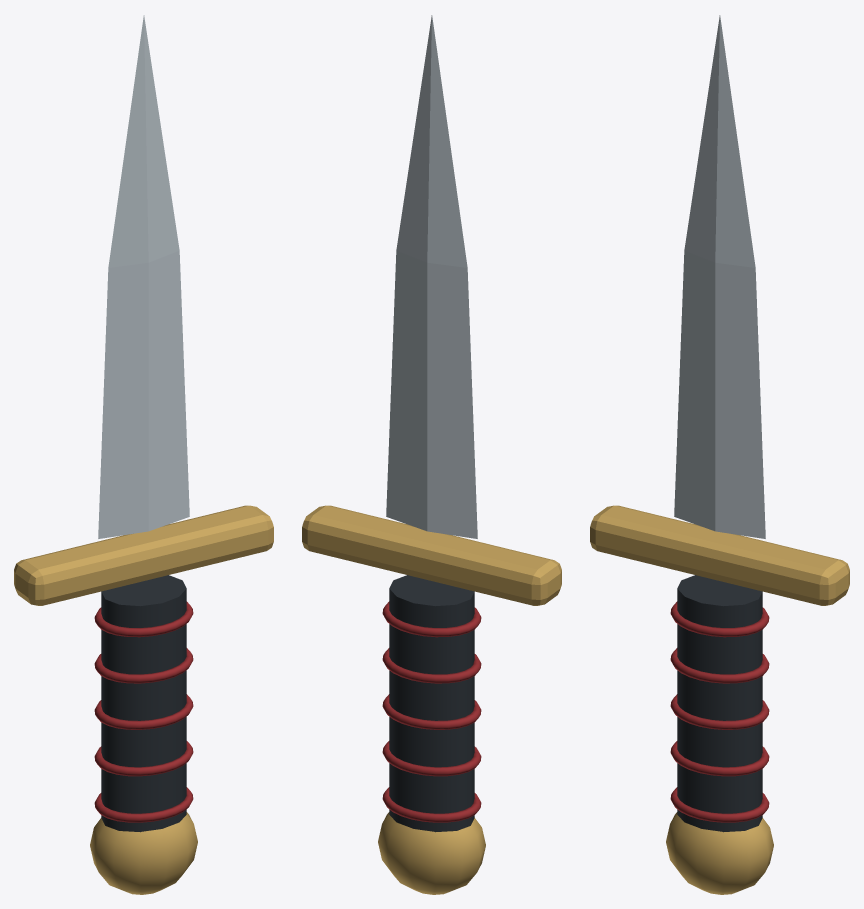
Rendered from knife_dagger.glb.
The picture shows the model from 3 angles, left to right: view 1: azimuth 30°, elevation 25°; view 2: azimuth 150°, elevation 25°; view 3: azimuth 330°, elevation 25°; orthographic projection.
Visible parts, largest first — view 1: Double edged dagger blade, Dagger grip, Dagger crossguard, Dagger pommel, Dagger grip wrap.003, Dagger grip wrap, Dagger grip wrap.002, Dagger grip wrap.001, Dagger grip wrap.004; view 2: Double edged dagger blade, Dagger grip, Dagger crossguard, Dagger pommel, Dagger grip wrap.003, Dagger grip wrap, Dagger grip wrap.002, Dagger grip wrap.001, Dagger grip wrap.004; view 3: Double edged dagger blade, Dagger grip, Dagger crossguard, Dagger pommel, Dagger grip wrap.003, Dagger grip wrap, Dagger grip wrap.002, Dagger grip wrap.001, Dagger grip wrap.004.
Boxes of the visible parts, box(x1,y1,x2,y2) form: Double edged dagger blade: box(98, 15, 189, 538); Dagger grip: box(101, 575, 186, 832); Dagger crossguard: box(14, 505, 273, 605); Dagger pommel: box(90, 812, 197, 894); Dagger grip wrap.003: box(94, 648, 193, 683); Dagger grip wrap: box(94, 787, 193, 822); Dagger grip wrap.002: box(94, 694, 193, 729); Dagger grip wrap.001: box(94, 741, 193, 776); Dagger grip wrap.004: box(94, 601, 193, 637); Double edged dagger blade: box(386, 15, 477, 538); Dagger grip: box(389, 575, 474, 832); Dagger crossguard: box(302, 505, 561, 605); Dagger pommel: box(378, 812, 485, 894); Dagger grip wrap.003: box(382, 648, 481, 683); Dagger grip wrap: box(382, 787, 481, 822); Dagger grip wrap.002: box(382, 694, 481, 729); Dagger grip wrap.001: box(382, 741, 481, 776); Dagger grip wrap.004: box(382, 601, 481, 637); Double edged dagger blade: box(674, 15, 765, 538); Dagger grip: box(677, 575, 762, 832); Dagger crossguard: box(590, 505, 849, 605); Dagger pommel: box(666, 812, 773, 894); Dagger grip wrap.003: box(670, 648, 769, 683); Dagger grip wrap: box(670, 787, 769, 822); Dagger grip wrap.002: box(670, 694, 769, 729); Dagger grip wrap.001: box(670, 741, 769, 776); Dagger grip wrap.004: box(670, 601, 769, 637).
Bounding box in the file's own units: 0.12 × 0.411 × 0.04.
